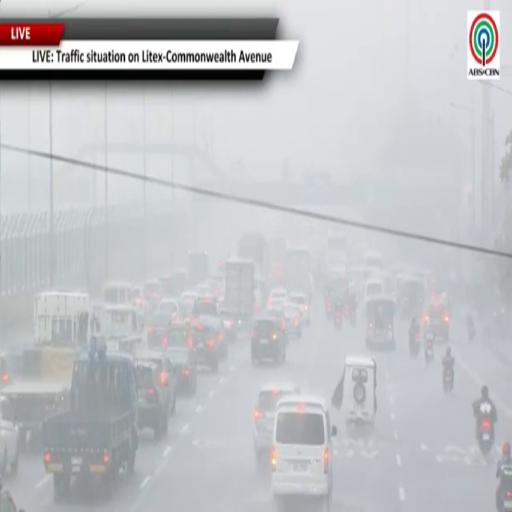car: (271, 395, 336, 510), (253, 384, 300, 470), (137, 354, 176, 438), (251, 316, 287, 365), (166, 344, 197, 395), (0, 397, 19, 474), (191, 324, 220, 372), (197, 315, 227, 359), (147, 312, 173, 348), (283, 302, 302, 338), (289, 293, 310, 325), (192, 294, 218, 318), (143, 280, 163, 310), (221, 310, 239, 343), (132, 287, 149, 321), (0, 489, 24, 511), (179, 292, 198, 319), (158, 298, 179, 321), (266, 309, 286, 332), (267, 288, 288, 308), (196, 283, 213, 296)
motorcycle: (478, 416, 493, 455), (498, 467, 511, 511), (443, 366, 454, 392), (425, 332, 434, 363), (409, 332, 420, 357), (345, 304, 356, 326), (425, 341, 434, 363), (334, 310, 342, 330), (326, 298, 333, 319), (468, 324, 476, 342)
truck: (43, 347, 138, 501), (2, 292, 90, 449), (93, 306, 145, 354), (223, 261, 254, 319), (237, 232, 269, 278), (285, 248, 312, 296), (268, 238, 287, 285), (325, 231, 348, 268), (188, 251, 210, 286)
